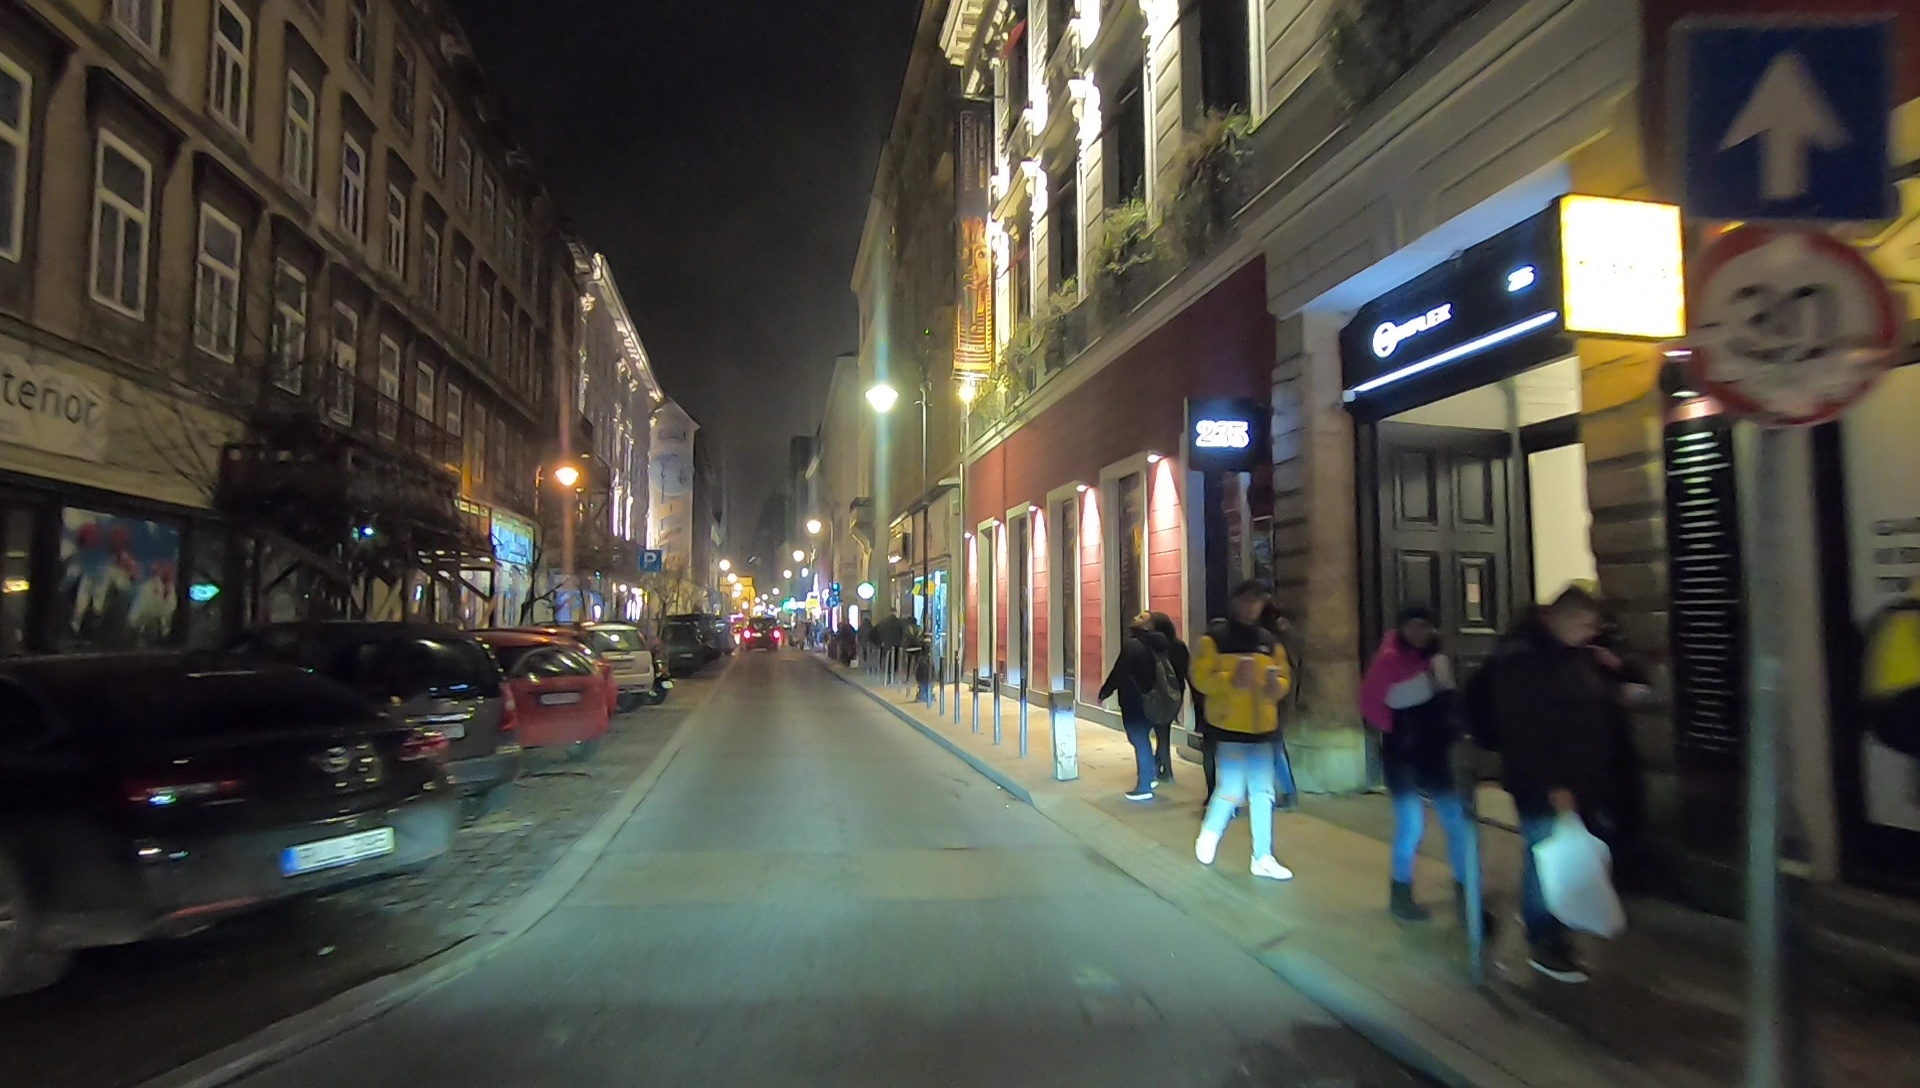person: (1356, 604, 1495, 937), (1506, 597, 1615, 978), (1199, 582, 1291, 878), (1119, 610, 1176, 802), (872, 612, 898, 687), (900, 610, 923, 680)
